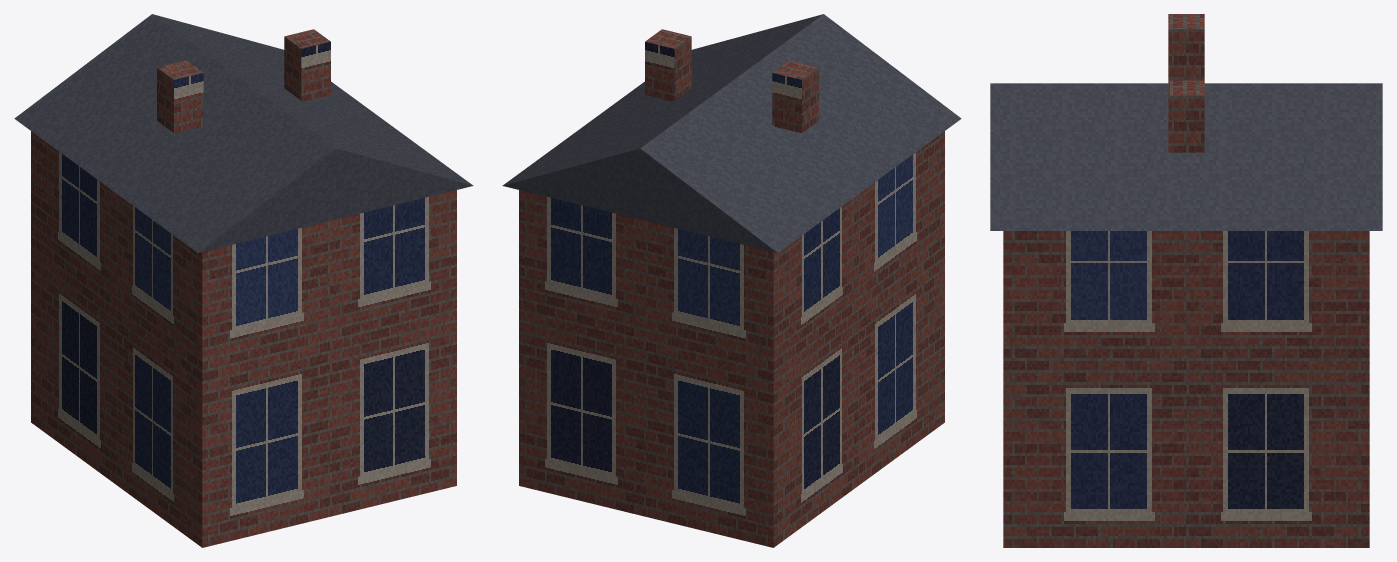
File: env_terrace_b.glb
3 renders of one model, left to right at view 1: azimuth 30°, elevation 25°; view 2: azimuth 150°, elevation 25°; view 3: azimuth 270°, elevation 25°, orthographic. The views are drawn at different scales.
Visible parts, largest first — view 1: env_terrace_b; view 2: env_terrace_b; view 3: env_terrace_b.
Part boxes in pixels (bbox=[...]): env_terrace_b: bbox=[14, 14, 473, 547]; env_terrace_b: bbox=[502, 14, 961, 547]; env_terrace_b: bbox=[990, 14, 1382, 547].
Size of the model in its own units: 6.5 by 9 by 7.5.
2 materials, 2 textured.
